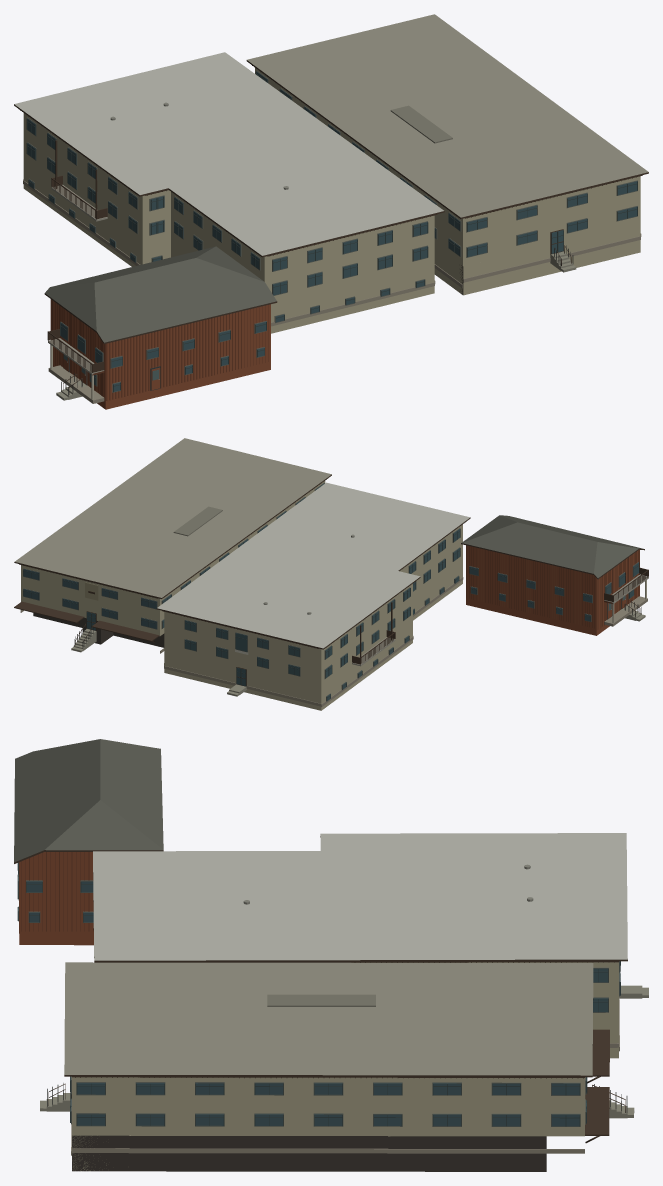
File: site.glb
The picture shows the model from 3 angles, top to bottom: view 1: azimuth 30°, elevation 25°; view 2: azimuth 150°, elevation 25°; view 3: azimuth 270°, elevation 25°; orthographic projection. The views are drawn at different scales.
Visible parts, largest first — view 1: roof-9bdc0828, east-15th-740, hilyard-1547-1549; view 2: roof-9bdc0828, east-15th-740, hilyard-1547-1549; view 3: east-15th-740, roof-9bdc0828, hilyard-1547-1549.
Part boxes in pixels (bbox=[...]): roof-9bdc0828: bbox=[14, 52, 444, 333]; east-15th-740: bbox=[246, 14, 648, 295]; hilyard-1547-1549: bbox=[44, 246, 277, 409]; roof-9bdc0828: bbox=[156, 482, 470, 710]; east-15th-740: bbox=[14, 438, 331, 653]; hilyard-1547-1549: bbox=[461, 515, 648, 635]; east-15th-740: bbox=[46, 962, 627, 1171]; roof-9bdc0828: bbox=[93, 833, 642, 1058]; hilyard-1547-1549: bbox=[14, 739, 163, 945].
Size of the model in its own units: 62.81 by 10.02 by 48.
